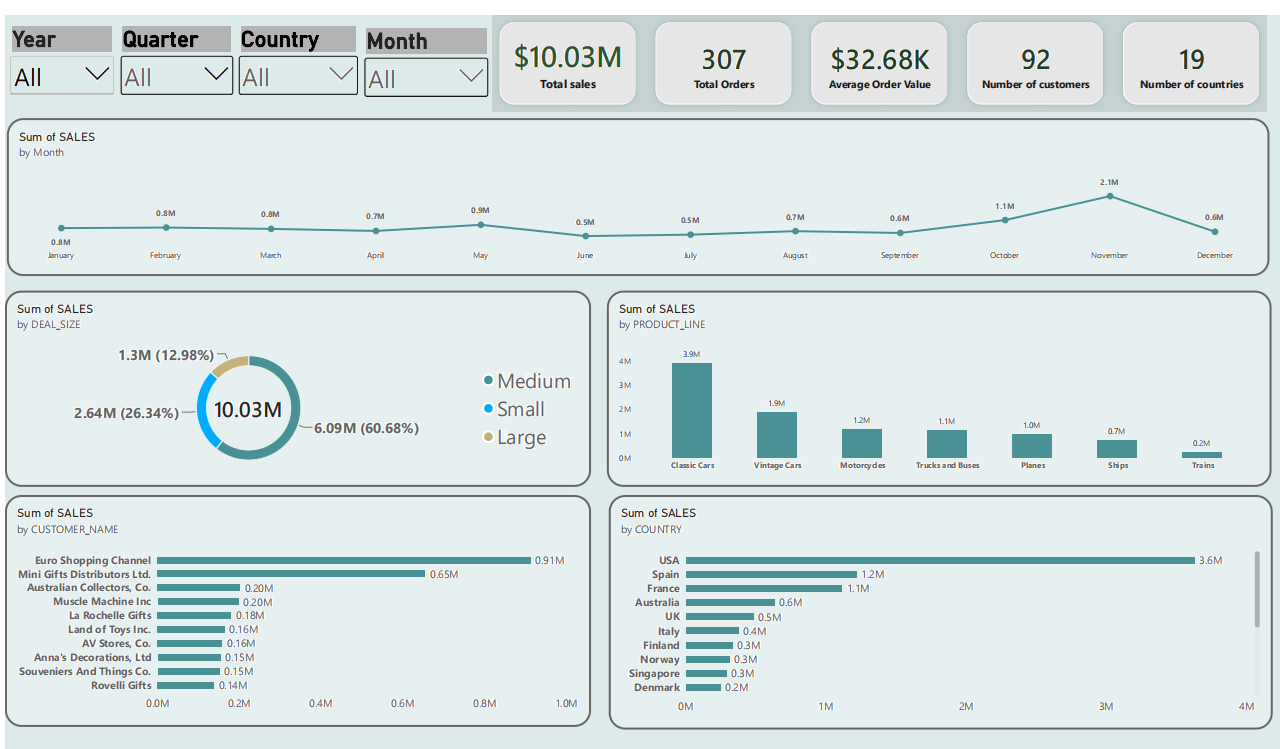

What the dashboard file says about the page in this screenshot:
{"tool":"powerbi","page":{"name":"Page 1","canvas":[1920,1080],"ordinal":0},"visuals":[{"type":"columnChart","fields":{"Category":["Sales_data.PRODUCT_LINE"],"Y":["Sum(Sales_data.SALES)"]},"box":[910,416.7,1006.1,296.7],"z":0},{"type":"barChart","fields":{"Category":["Sales_data.COUNTRY"],"Y":["Sum(Sales_data.SALES)"]},"box":[913.3,726.7,1004.6,354.7],"z":1000},{"type":"donutChart","fields":{"Category":["Sales_data.DEAL_SIZE"],"Y":["Sum(Sales_data.SALES)"]},"box":[0,416.2,886.6,296.7],"z":2000},{"type":"lineChart","fields":{"Category":["Sales_data.ORDER_DATE.Variation.Date Hierarchy.Month"],"Y":["Sum(Sales_data.SALES)"]},"box":[7.2,148.4,1911.1,238.9],"z":3000},{"type":"slicer","fields":{"Values":["Sales_data.ORDER_DATE.Variation.Date Hierarchy.Year"]},"box":[2.8,17,167.4,113.5],"z":4000},{"type":"slicer","fields":{"Values":["Sales_data.ORDER_DATE.Variation.Date Hierarchy.Quarter"]},"box":[170,16.7,180,110],"z":5000},{"type":"slicer","fields":{"Values":["Sales_data.ORDER_DATE.Variation.Date Hierarchy.Month"]},"box":[539.2,21.7,199,101.3],"z":6000},{"type":"slicer","fields":{"Values":["Sales_data.COUNTRY"]},"box":[350,16.7,190,106.7],"z":7000},{"type":"cardVisual","fields":{"Data":["Sales_data.total sales","Sales_data.Total Orders","Sales_data.Average Order Value","Sales_data.Number of customers","Sales_data.Number of countries"]},"box":[736.7,0,1176.7,146.7],"z":8000},{"type":"clusteredBarChart","fields":{"Category":["Sales_data.CUSTOMER_NAME"],"Y":["Sum(Sales_data.SALES)"]},"box":[0,727.4,886.6,351],"z":9000}]}

Visuals, with their boxes in screenshot pixels (x1, y1, x2, y2):
columnChart - Sales_data.PRODUCT_LINE x Sum(Sales_data.SALES): 602/291/1263/486
barChart - Sales_data.COUNTRY x Sum(Sales_data.SALES): 604/494/1264/728
donutChart - Sales_data.DEAL_SIZE x Sum(Sales_data.SALES): 3/290/586/485
lineChart - Sales_data.ORDER_DATE.Variation.Date Hierarchy.Month x Sum(Sales_data.SALES): 8/114/1265/271
slicer - Sales_data.ORDER_DATE.Variation.Date Hierarchy.Year: 5/28/115/102
slicer - Sales_data.ORDER_DATE.Variation.Date Hierarchy.Quarter: 115/28/233/100
slicer - Sales_data.ORDER_DATE.Variation.Date Hierarchy.Month: 358/31/489/98
slicer - Sales_data.COUNTRY: 233/28/358/98
cardVisual - Sales_data.total sales x Sales_data.Total Orders: 488/17/1261/113
clusteredBarChart - Sales_data.CUSTOMER_NAME x Sum(Sales_data.SALES): 3/495/586/726
